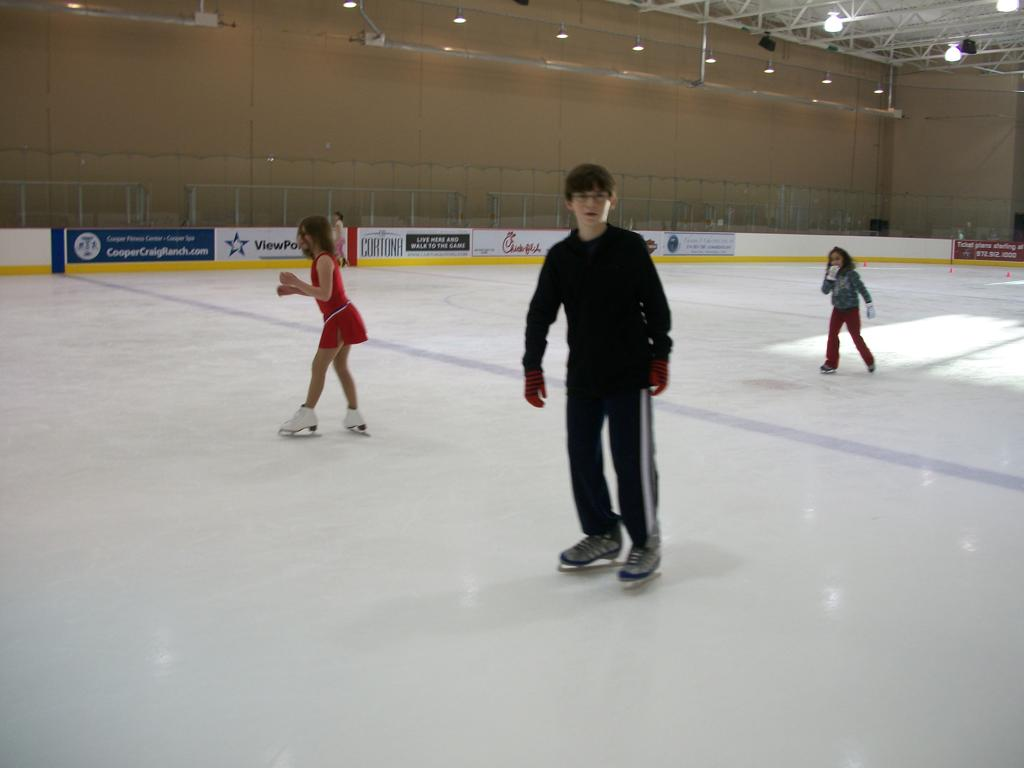face: (571, 184, 610, 227), (297, 225, 311, 248), (830, 251, 842, 269)
